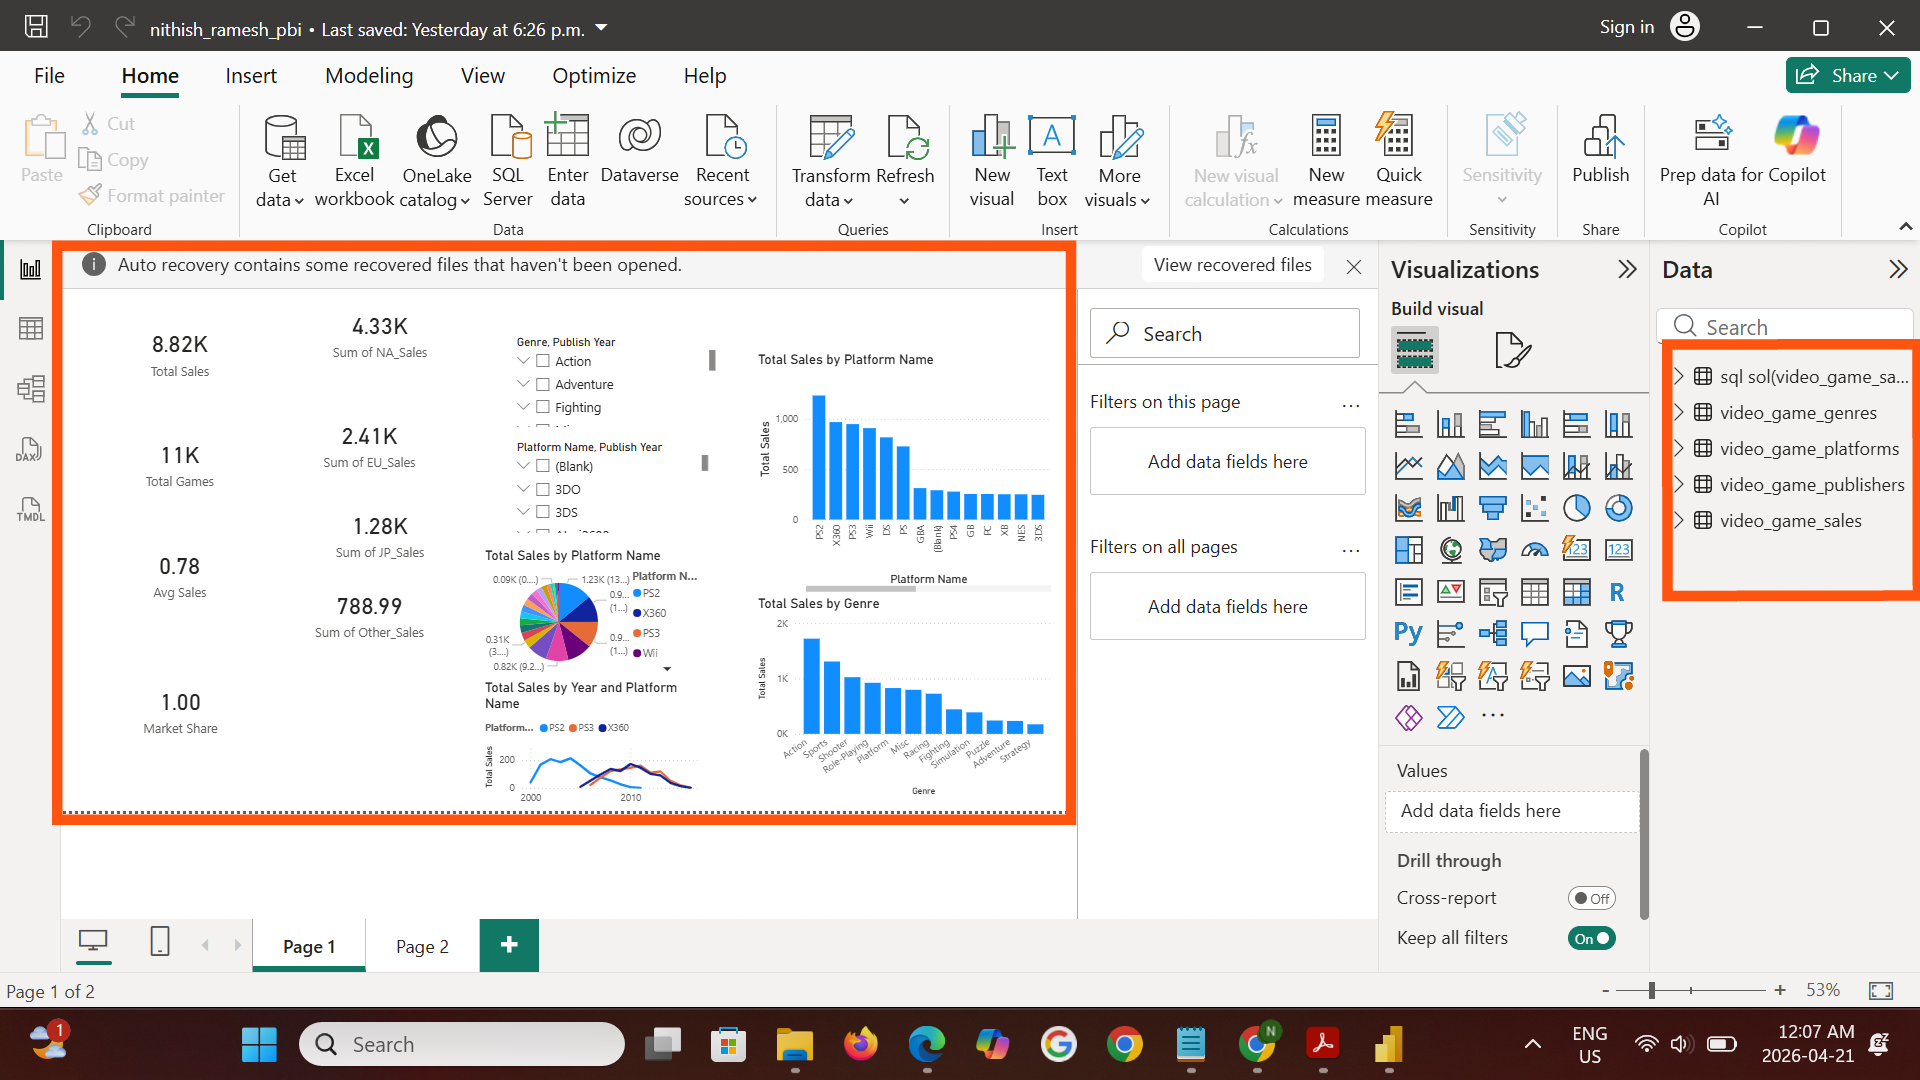

The dashboard page shown, as its layout file describes it:
{"tool":"powerbi","page":{"name":"Page 1","canvas":[1280,720],"ordinal":0},"visuals":[{"type":"card","fields":{"Values":["video_game_sales.Total Sales"]},"box":[10,0,280,280],"z":0},{"type":"card","fields":{"Values":["video_game_sales.Total Games"]},"box":[9.4,209.8,279.7,138],"z":1000},{"type":"card","fields":{"Values":["video_game_sales.Avg Sales"]},"box":[9.4,347.7,279.7,141.7],"z":2000},{"type":"card","fields":{"Values":["video_game_sales.Market Share"]},"box":[9.4,508.4,281.6,164.4],"z":3000},{"type":"card","fields":{"Values":["Sum(video_game_sales.NA_Sales)"]},"box":[260.8,66.1,281.6,100.2],"z":4000},{"type":"card","fields":{"Values":["Sum(video_game_sales.EU_Sales)"]},"box":[247.6,198.4,281.6,113.4],"z":5000},{"type":"card","fields":{"Values":["Sum(video_game_sales.JP_Sales)"]},"box":[260.8,317.5,281.6,102],"z":6000},{"type":"card","fields":{"Values":["Sum(video_game_sales.Other_Sales)"]},"box":[247.6,415.8,281.6,107.7],"z":7000},{"type":"clusteredColumnChart","fields":{"Category":["video_game_platforms.Platform Name"],"Y":["video_game_sales.Total Sales"]},"box":[873.1,139.8,379.8,308],"z":8000},{"type":"clusteredColumnChart","fields":{"Category":["video_game_genres.Genre"],"Y":["video_game_sales.Total Sales"]},"box":[873.1,447.9,379.8,257],"z":9000},{"type":"decompositionTreeVisual","fields":{"Analyze":["video_game_sales.Total Sales"],"ExplainBy":["video_game_platforms.Platform Name","video_game_genres.Genre","video_game_publishers.Publisher Name","video_game_sales.NA_Sales","video_game_sales.EU_Sales","video_game_sales.JP_Sales","video_game_sales.Other_Sales"]},"box":[274,542.4,268.3,149.3],"z":12000},{"type":"slicer","fields":{"Values":["video_game_genres.Genre","video_game_sales.Publish Year"]},"box":[561.3,115.3,268.3,124.7],"z":12001},{"type":"slicer","fields":{"Values":["video_game_platforms.Platform Name","video_game_sales.Publish Year"]},"box":[561.3,247.6,258.9,126.6],"z":12002},{"type":"pieChart","fields":{"Category":["video_game_platforms.Platform Name"],"Y":["video_game_sales.Total Sales"]},"box":[529.1,387.4,281.6,166.3],"z":12003},{"type":"lineChart","fields":{"Category":["video_game_sales.Publish Year.Variation.Date Hierarchy.Year","video_game_sales.Publish Year.Variation.Date Hierarchy.Quarter","video_game_sales.Publish Year.Variation.Date Hierarchy.Month","video_game_sales.Publish Year.Variation.Date Hierarchy.Day"],"Y":["video_game_sales.Total Sales"],"Series":["video_game_platforms.Platform Name"]},"box":[529.1,553.7,281.6,166.3],"z":12004}]}

Visuals, with their boxes on the page's 1280x720 design canvas (x1, y1, x2, y2). These are canvas units, not pixel positions in the 1920x1080 screenshot, which may show the page scaled, cropped or inside an application window:
card - video_game_sales.Total Sales: (x1=10, y1=0, x2=290, y2=280)
card - video_game_sales.Total Games: (x1=9, y1=210, x2=289, y2=348)
card - video_game_sales.Avg Sales: (x1=9, y1=348, x2=289, y2=489)
card - video_game_sales.Market Share: (x1=9, y1=508, x2=291, y2=673)
card - Sum(video_game_sales.NA_Sales): (x1=261, y1=66, x2=542, y2=166)
card - Sum(video_game_sales.EU_Sales): (x1=248, y1=198, x2=529, y2=312)
card - Sum(video_game_sales.JP_Sales): (x1=261, y1=318, x2=542, y2=420)
card - Sum(video_game_sales.Other_Sales): (x1=248, y1=416, x2=529, y2=524)
clusteredColumnChart - video_game_platforms.Platform Name x video_game_sales.Total Sales: (x1=873, y1=140, x2=1253, y2=448)
clusteredColumnChart - video_game_genres.Genre x video_game_sales.Total Sales: (x1=873, y1=448, x2=1253, y2=705)
decompositionTreeVisual - video_game_sales.Total Sales x video_game_platforms.Platform Name: (x1=274, y1=542, x2=542, y2=692)
slicer - video_game_genres.Genre x video_game_sales.Publish Year: (x1=561, y1=115, x2=830, y2=240)
slicer - video_game_platforms.Platform Name x video_game_sales.Publish Year: (x1=561, y1=248, x2=820, y2=374)
pieChart - video_game_platforms.Platform Name x video_game_sales.Total Sales: (x1=529, y1=387, x2=811, y2=554)
lineChart - video_game_sales.Publish Year.Variation.Date Hierarchy.Year x video_game_sales.Publish Year.Variation.Date Hierarchy.Quarter: (x1=529, y1=554, x2=811, y2=720)
